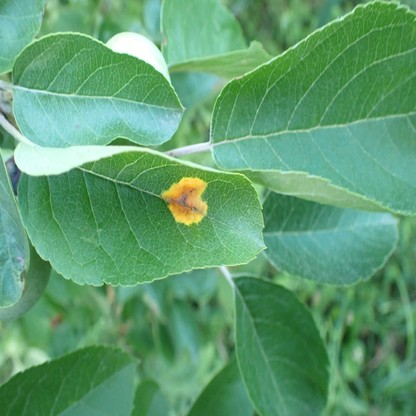rust: (161, 179, 209, 224)
